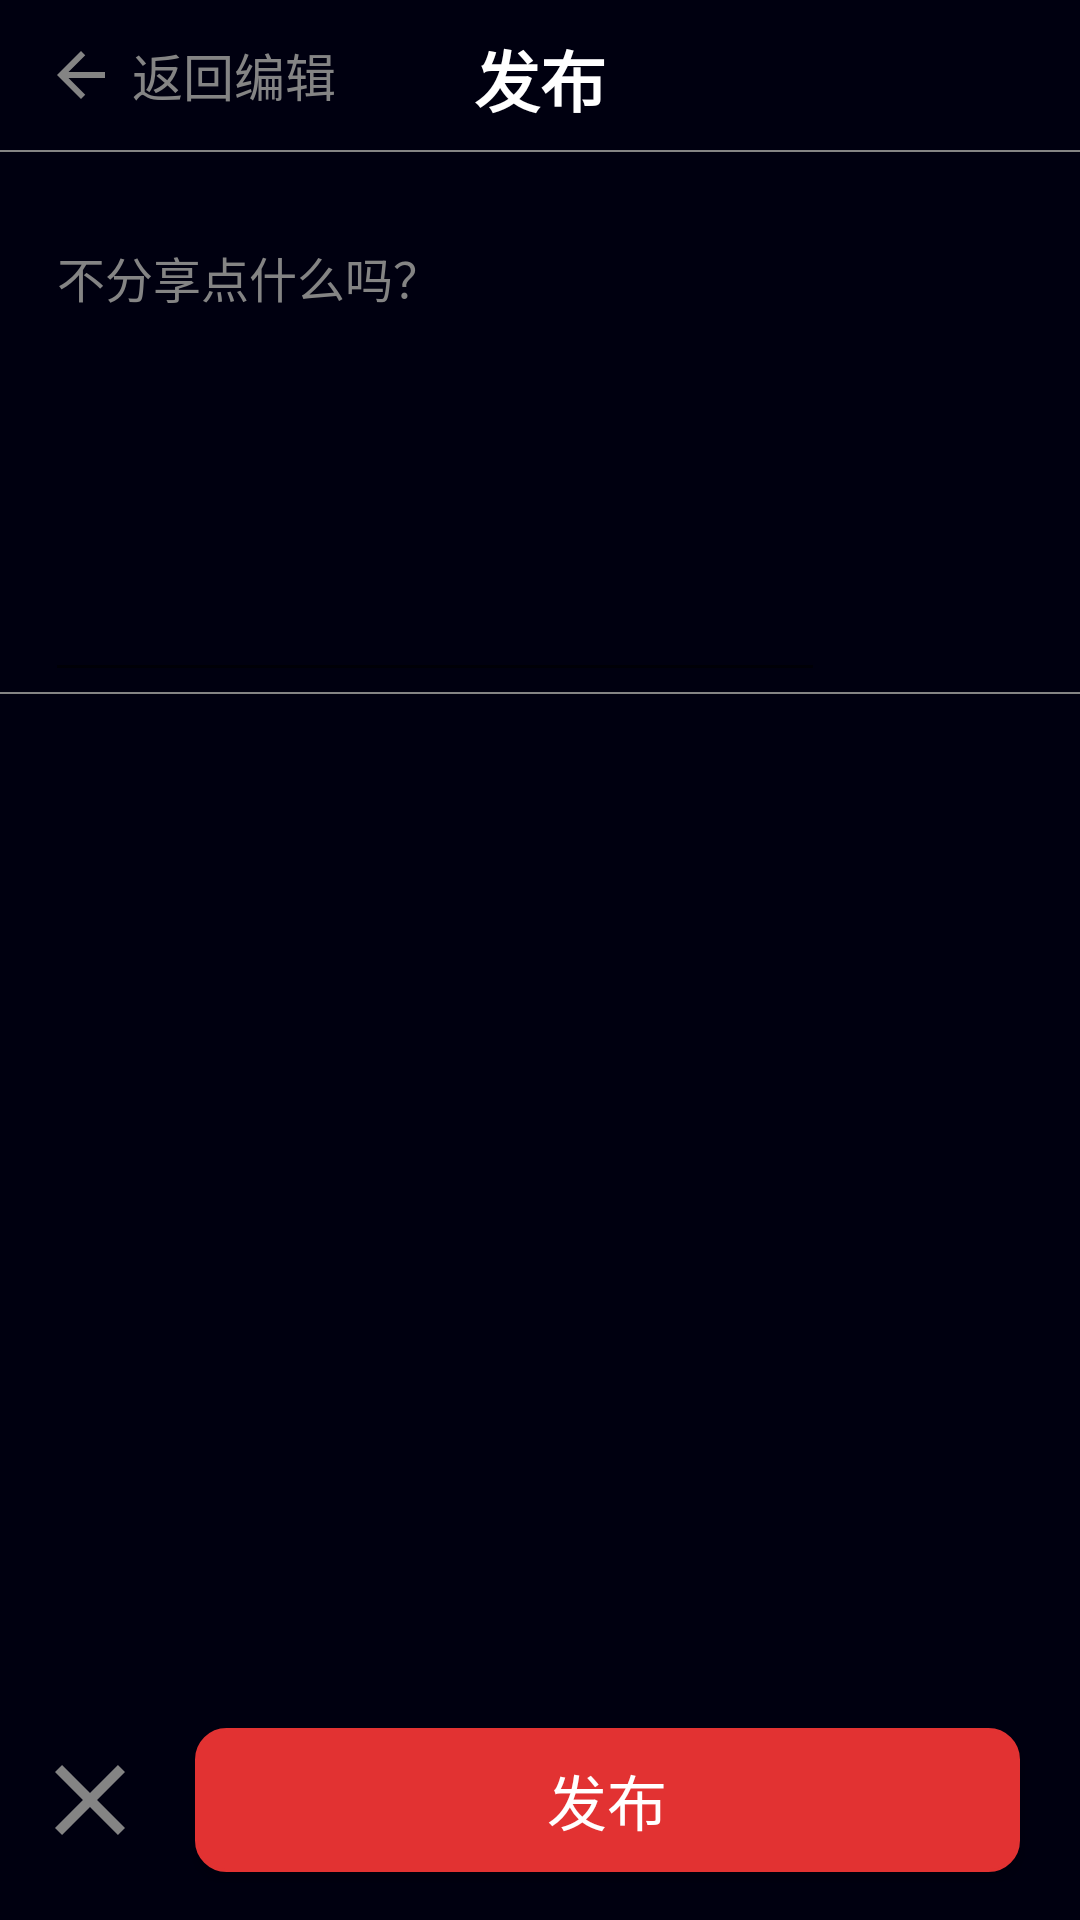

Named icons in this screenshot (1080 × 1920) and their bounding boxes, (x1, y1, x2, y2):
close: (55, 1765, 125, 1835)
